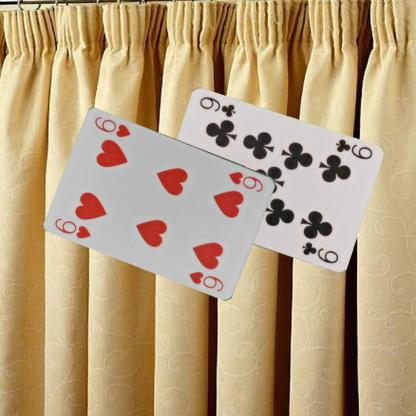6h: (226, 168, 265, 194), (52, 215, 92, 240)
9c: (332, 136, 373, 162)
